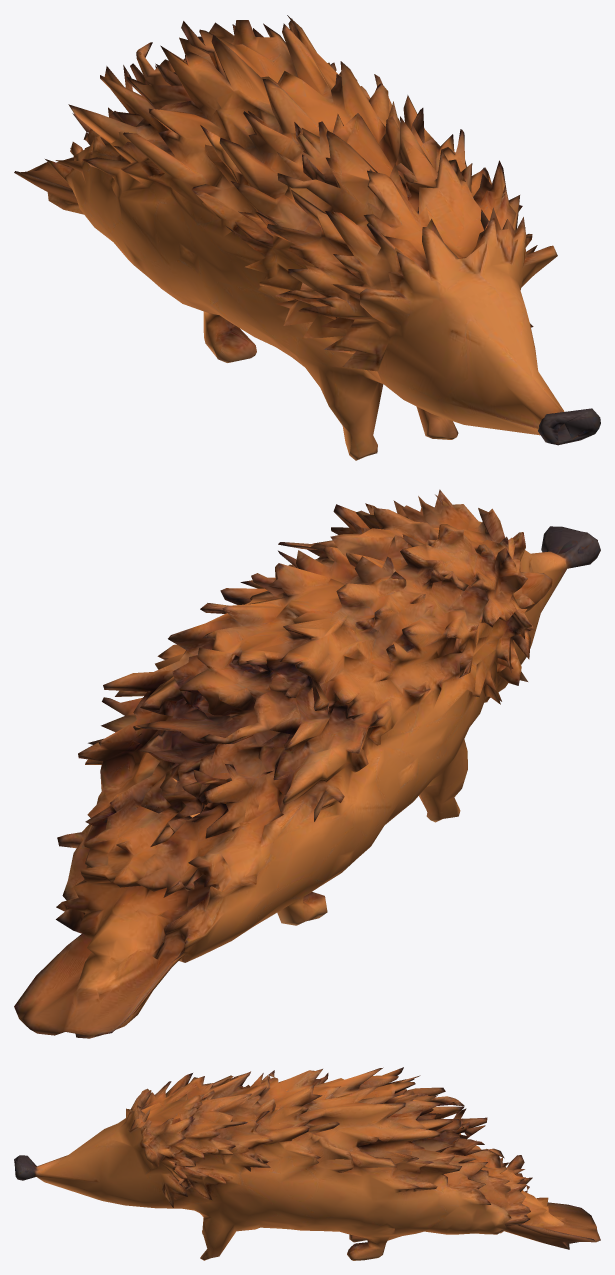
The model's file is porcupine.glb.
3 views of the same model, one above another, from view 1: azimuth 30°, elevation 25°; view 2: azimuth 150°, elevation 25°; view 3: azimuth 270°, elevation 25° (orthographic). The views are drawn at different scales.
Parts seen in each view (by area): view 1: Mesh_0; view 2: Mesh_0; view 3: Mesh_0.
Part boxes in pixels (x1,y1,x2,y2): Mesh_0: (14,15,600,460); Mesh_0: (14,489,600,1038); Mesh_0: (14,1067,600,1260).
Size of the model in its own units: 0.572 by 0.652 by 2.
1 material, 1 textured.
